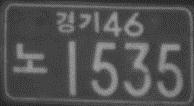1: (58, 38, 86, 97)
3: (122, 41, 152, 98)
4: (101, 10, 121, 37)
5: (90, 40, 119, 97), (155, 41, 183, 98)
6: (123, 11, 143, 37)
경기_O: (54, 9, 100, 34)
노: (11, 41, 49, 75)
